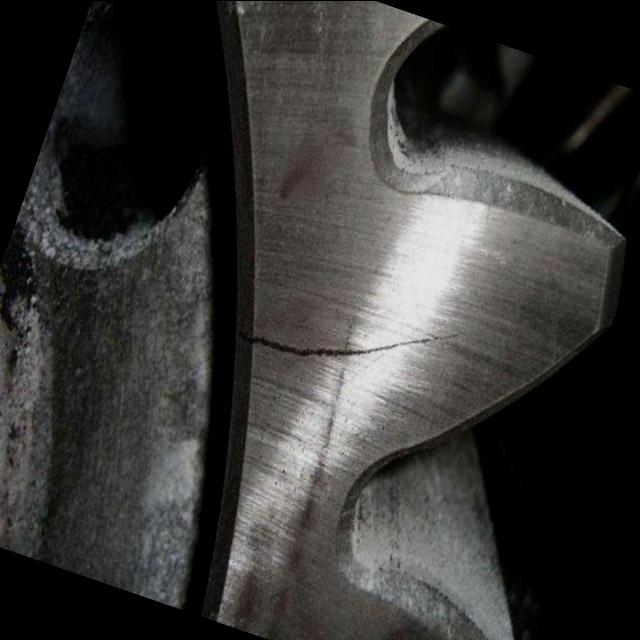defect: (232, 323, 465, 363)
